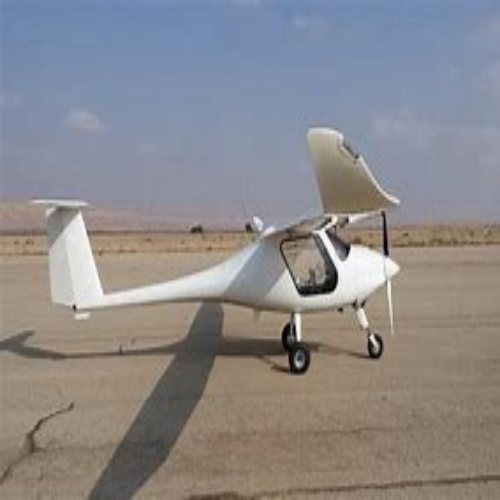uav548: (25, 128, 405, 374)
